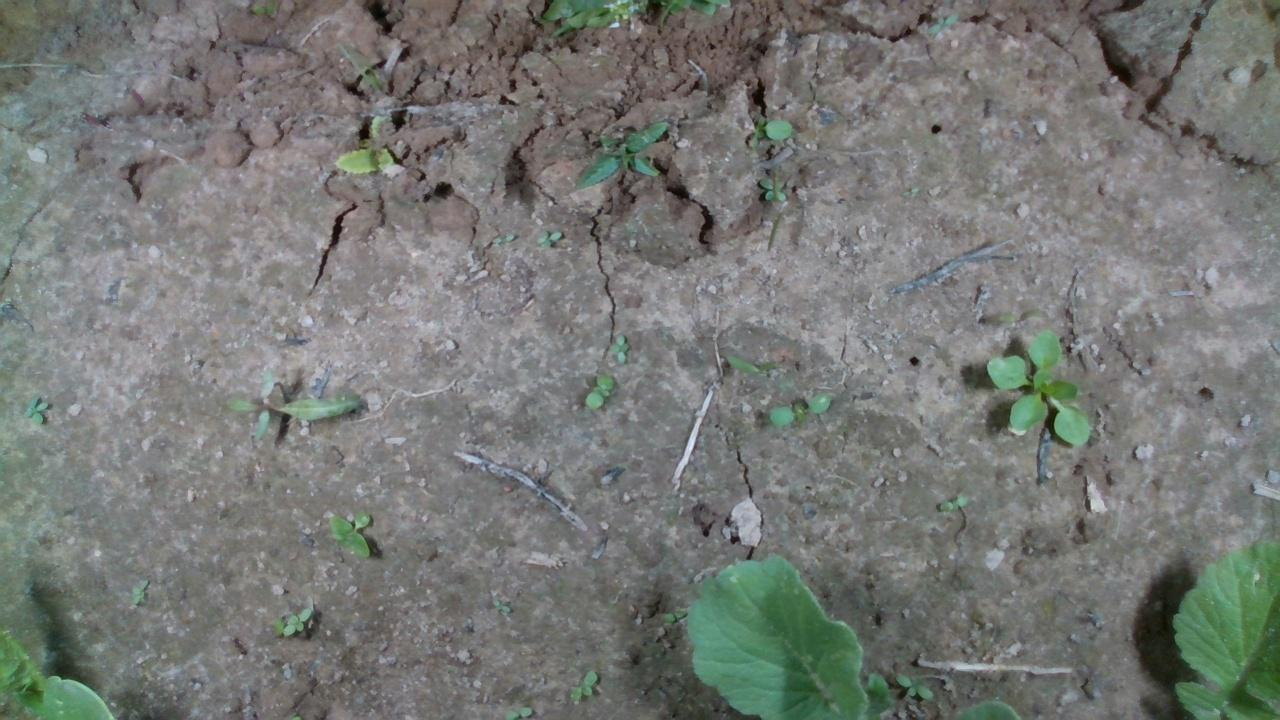weed: (571, 118, 668, 190), (326, 509, 372, 559), (766, 390, 830, 425), (332, 147, 395, 173), (583, 373, 613, 410), (894, 671, 933, 699), (566, 667, 598, 700), (752, 115, 792, 139), (21, 393, 49, 426), (281, 605, 311, 635), (757, 174, 786, 201), (607, 332, 630, 363), (129, 575, 149, 606), (534, 228, 563, 249), (491, 231, 515, 244)
